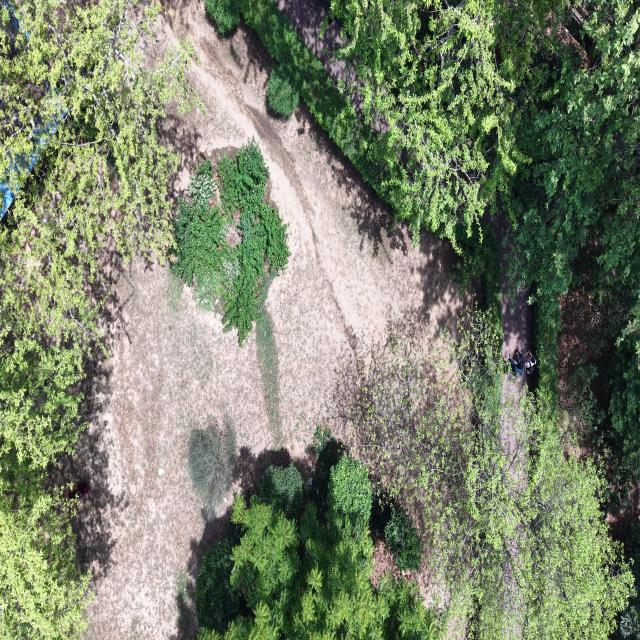DRY_AREA: (67, 2, 461, 639), (165, 4, 460, 379), (166, 5, 457, 339), (74, 260, 259, 637), (557, 281, 623, 456), (557, 283, 621, 457), (557, 285, 621, 458), (557, 286, 620, 433), (276, 0, 361, 88), (558, 289, 605, 441), (485, 212, 531, 360), (489, 211, 531, 360), (490, 211, 532, 360), (489, 211, 531, 359), (277, 0, 352, 82), (490, 211, 531, 359), (490, 212, 531, 359), (491, 213, 531, 360), (491, 213, 531, 359), (500, 371, 529, 492), (500, 374, 528, 498), (500, 374, 528, 490), (502, 289, 531, 359), (607, 484, 639, 542)
PATHWAYS: (491, 212, 531, 359), (491, 214, 530, 359)
VEGETATION_TREE: (206, 0, 639, 638), (237, 0, 639, 502), (236, 0, 639, 443), (330, 0, 639, 481), (330, 0, 639, 444), (0, 0, 195, 639), (330, 0, 639, 299), (351, 313, 633, 639), (351, 314, 633, 639), (235, 0, 560, 246), (235, 0, 534, 246), (505, 2, 639, 506), (0, 0, 194, 343), (504, 2, 639, 479), (508, 3, 639, 486), (330, 0, 542, 245), (198, 454, 435, 639), (505, 0, 639, 296), (233, 0, 395, 207), (515, 408, 633, 638), (558, 252, 639, 585), (172, 140, 289, 345), (558, 254, 639, 500), (0, 451, 90, 639), (0, 301, 89, 477), (172, 161, 233, 308), (598, 342, 639, 481), (453, 220, 502, 322), (370, 483, 423, 571), (188, 420, 236, 517), (196, 540, 239, 633), (256, 288, 280, 432), (328, 456, 372, 530), (311, 426, 345, 517), (617, 523, 639, 639), (259, 463, 303, 519), (384, 506, 421, 570), (267, 66, 299, 117), (205, 0, 239, 34)
